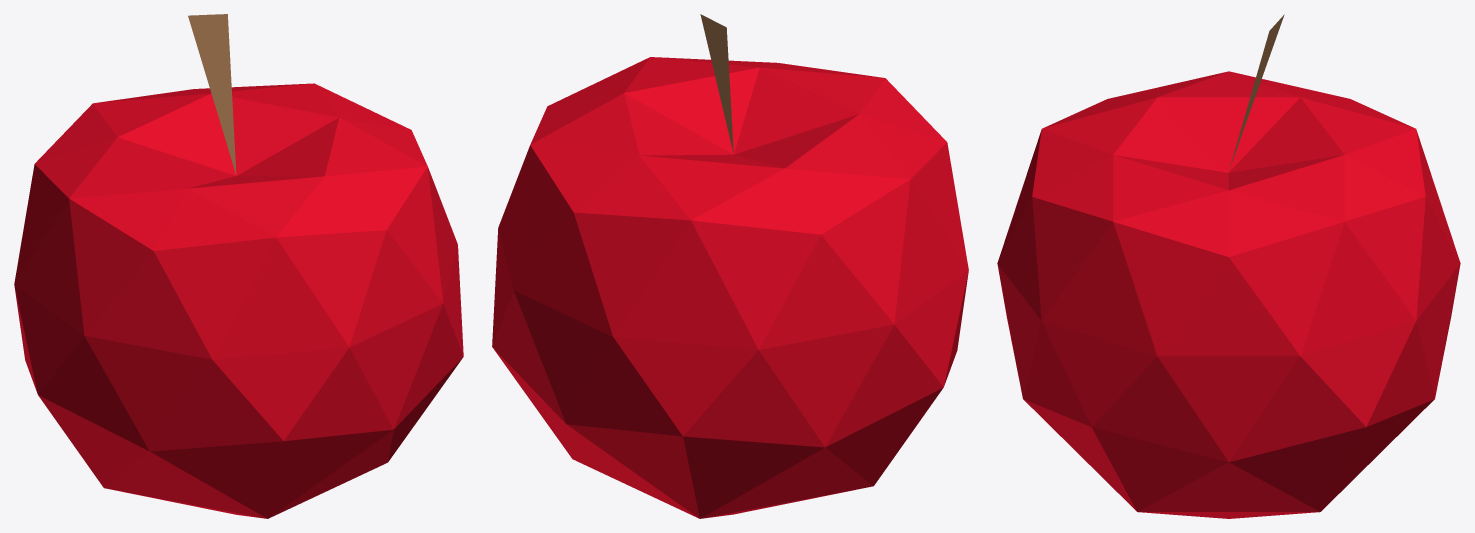
The model's file is model_apple.glb.
The picture shows the model from 3 angles, left to right: view 1: azimuth 30°, elevation 25°; view 2: azimuth 150°, elevation 25°; view 3: azimuth 270°, elevation 25°; orthographic projection. The views are drawn at different scales.
Parts seen in each view (by area): view 1: Model_Apple; view 2: Model_Apple; view 3: Model_Apple.
Part boxes in pixels (bbox=[...]): Model_Apple: bbox=[14, 14, 463, 518]; Model_Apple: bbox=[492, 14, 968, 518]; Model_Apple: bbox=[997, 14, 1460, 518].
Size of the model in its own units: 0.2508 by 0.3015 by 0.2559.
